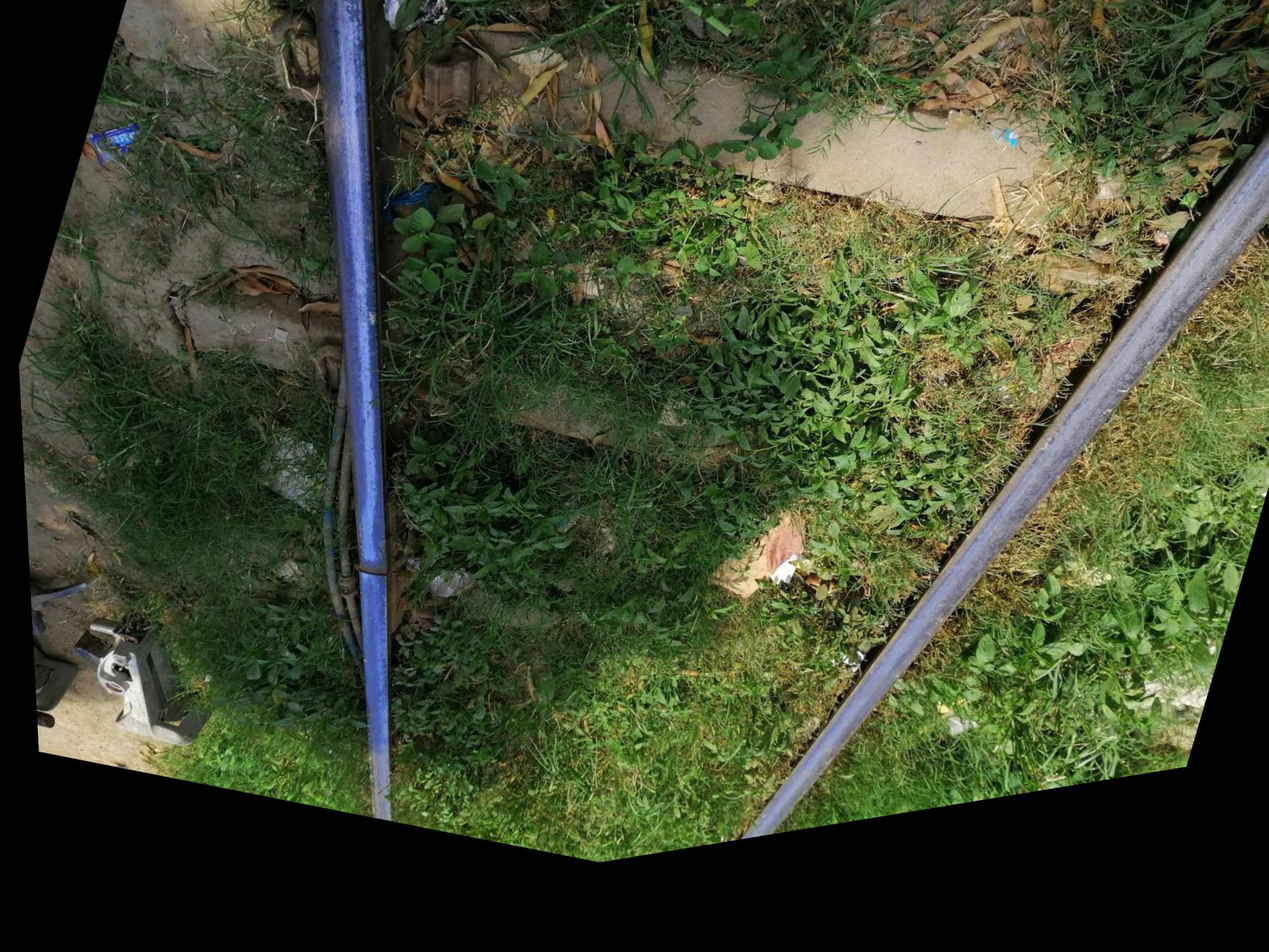person: (285, 505, 435, 661)
